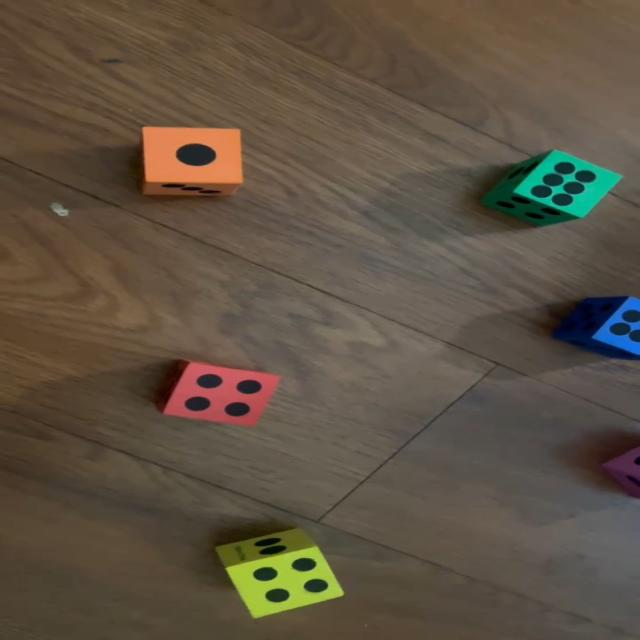blue_block: (553, 295, 640, 359)
red_block: (157, 358, 282, 428)
